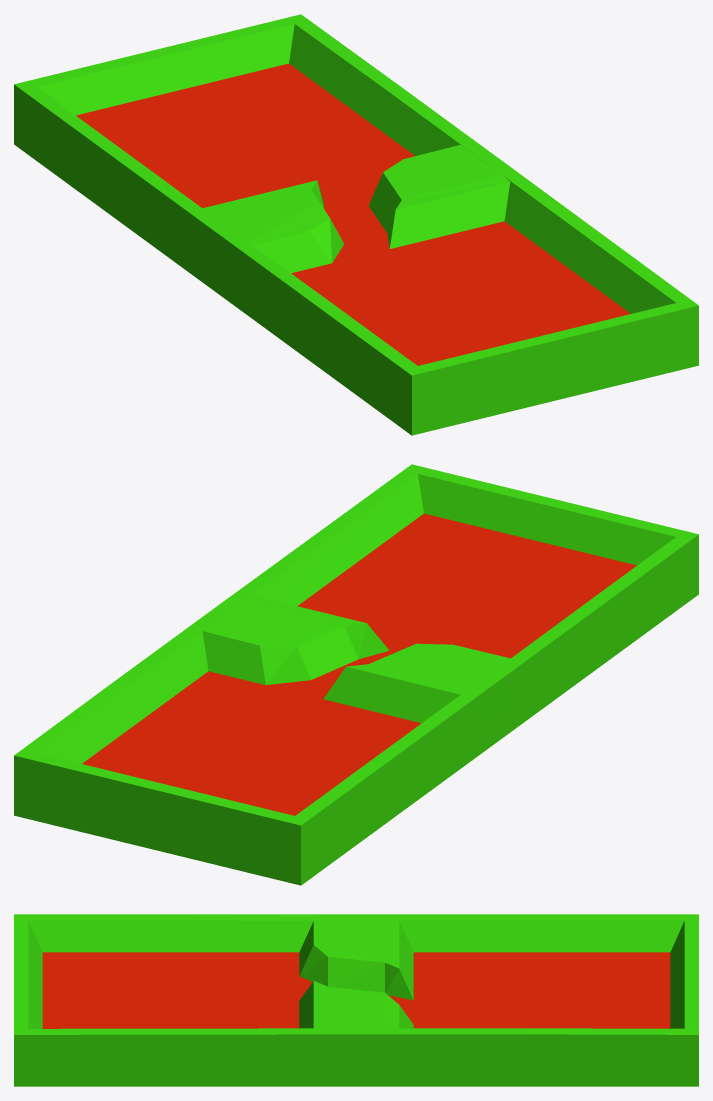
File: stół1.fbx
3 views of the same model, one above another, from view 1: azimuth 30°, elevation 25°; view 2: azimuth 150°, elevation 25°; view 3: azimuth 270°, elevation 25° (orthographic). The views are drawn at different scales.
Visible parts, largest first — view 1: Cube.001; view 2: Cube.001; view 3: Cube.001.
Part boxes in pixels (box(x1,y1,x2,y2)): Cube.001: box(14, 14, 698, 435); Cube.001: box(14, 464, 698, 885); Cube.001: box(14, 914, 698, 1086).
Bounding box in the file's own units: 2000 × 404 × 4800.
